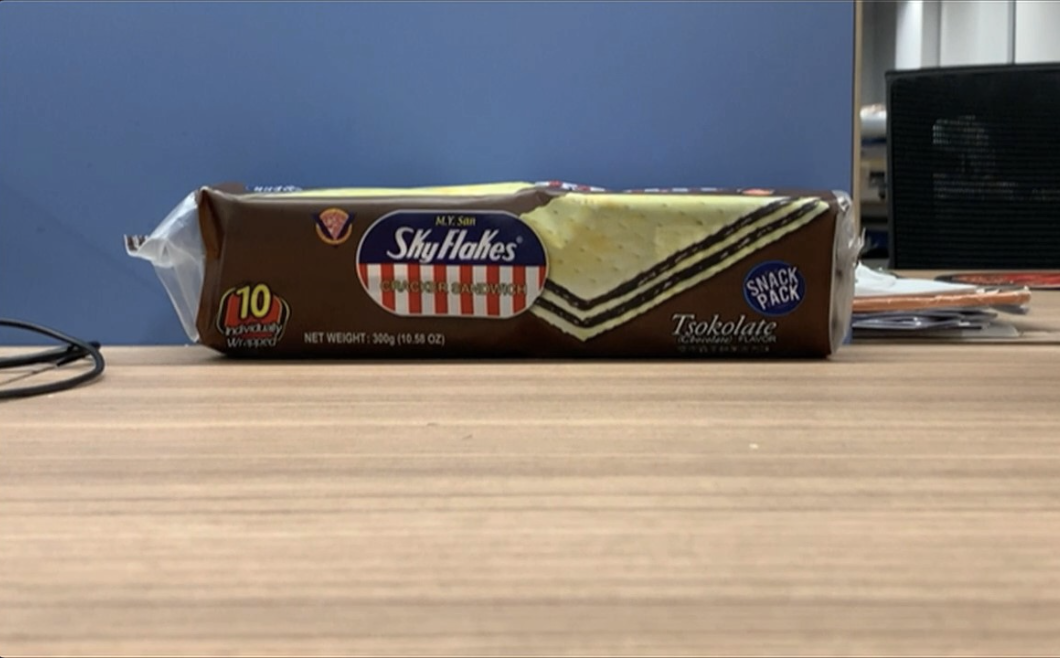crackers_150g: (211, 202, 824, 348)
